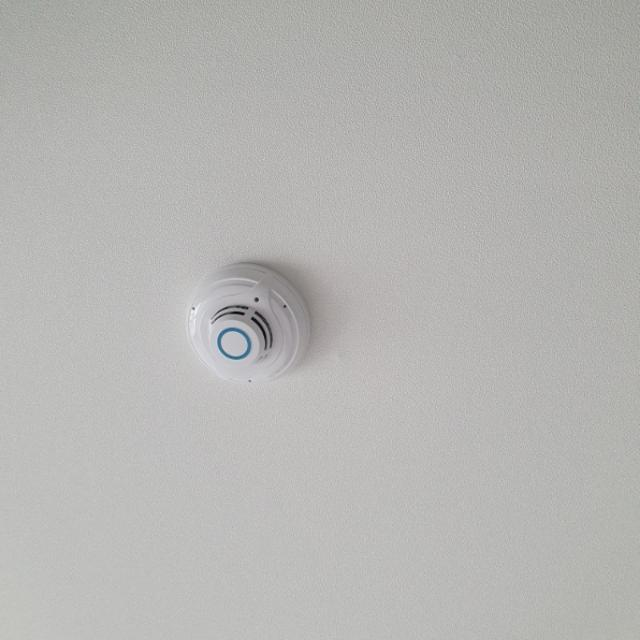Smoke-Detector: (185, 264, 311, 388)
